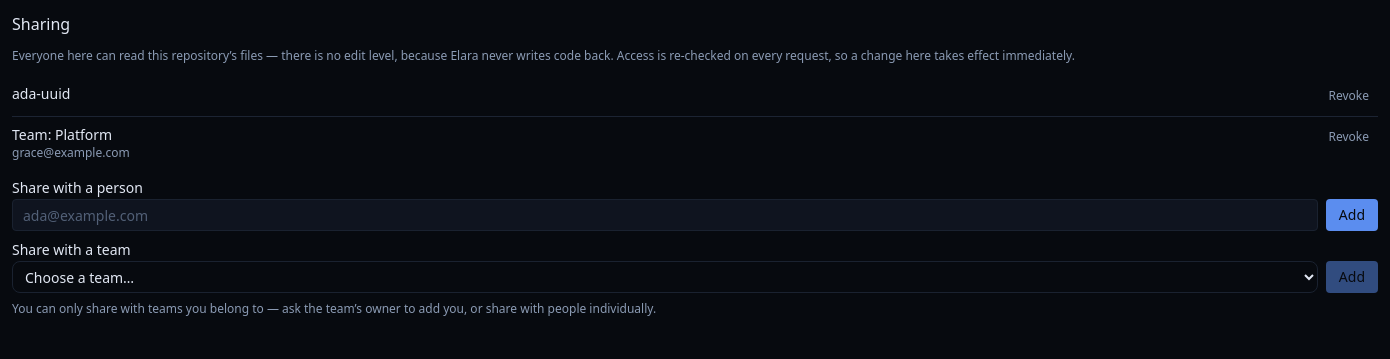
Scenario: RepositoryShareList › says an unknown email has no account here, and grants nothing
Expected: the text "ada-uuid" is shown, [12, 84, 70, 103]
Type "nobody@example.com" into the field labelled "Share with a person".
click(665, 215); type("nobody@example.com")  # box [12, 199, 1318, 231]
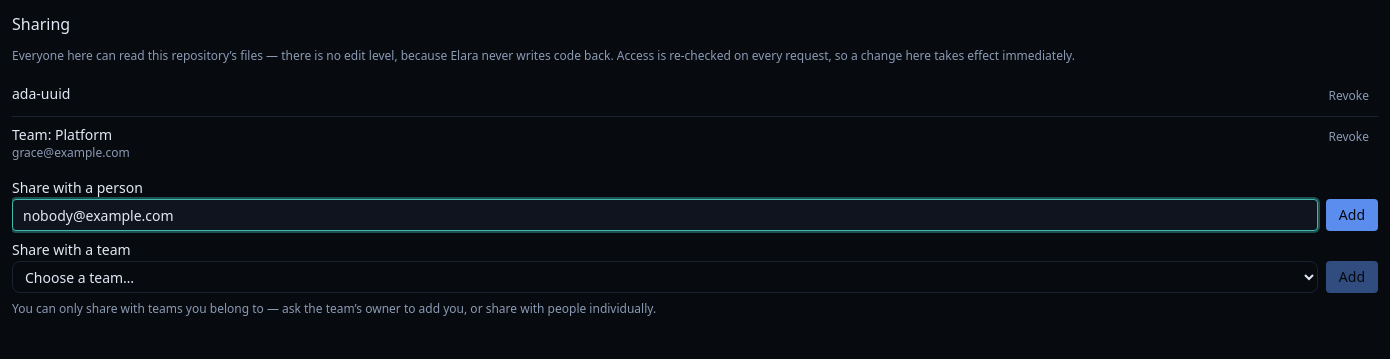
Click the 1st button "Add".
click(1352, 215)  # box [1326, 199, 1378, 231]
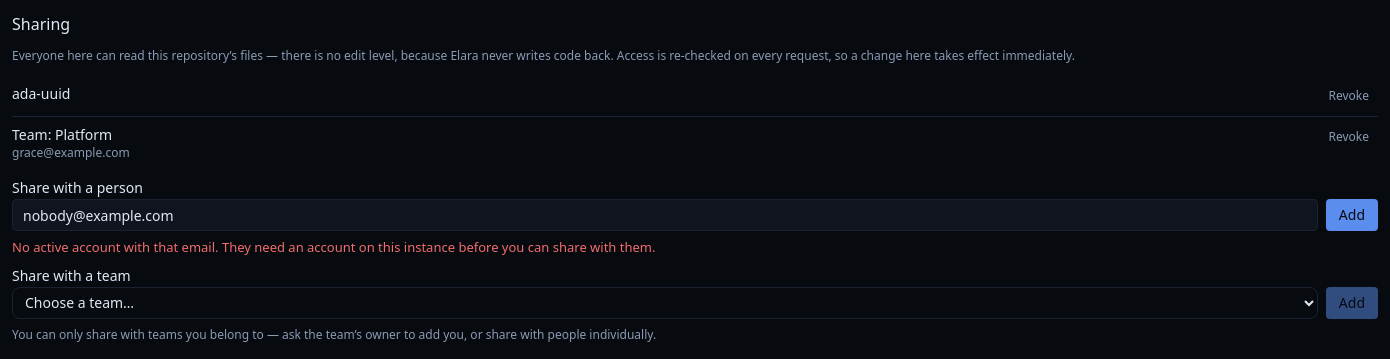
Expected: the message shows "No active account with that email", [12, 238, 656, 256]
